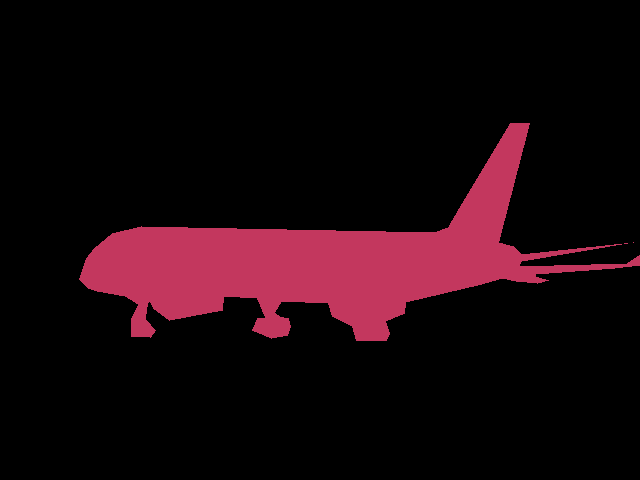Airplane: (79, 123, 640, 340)
